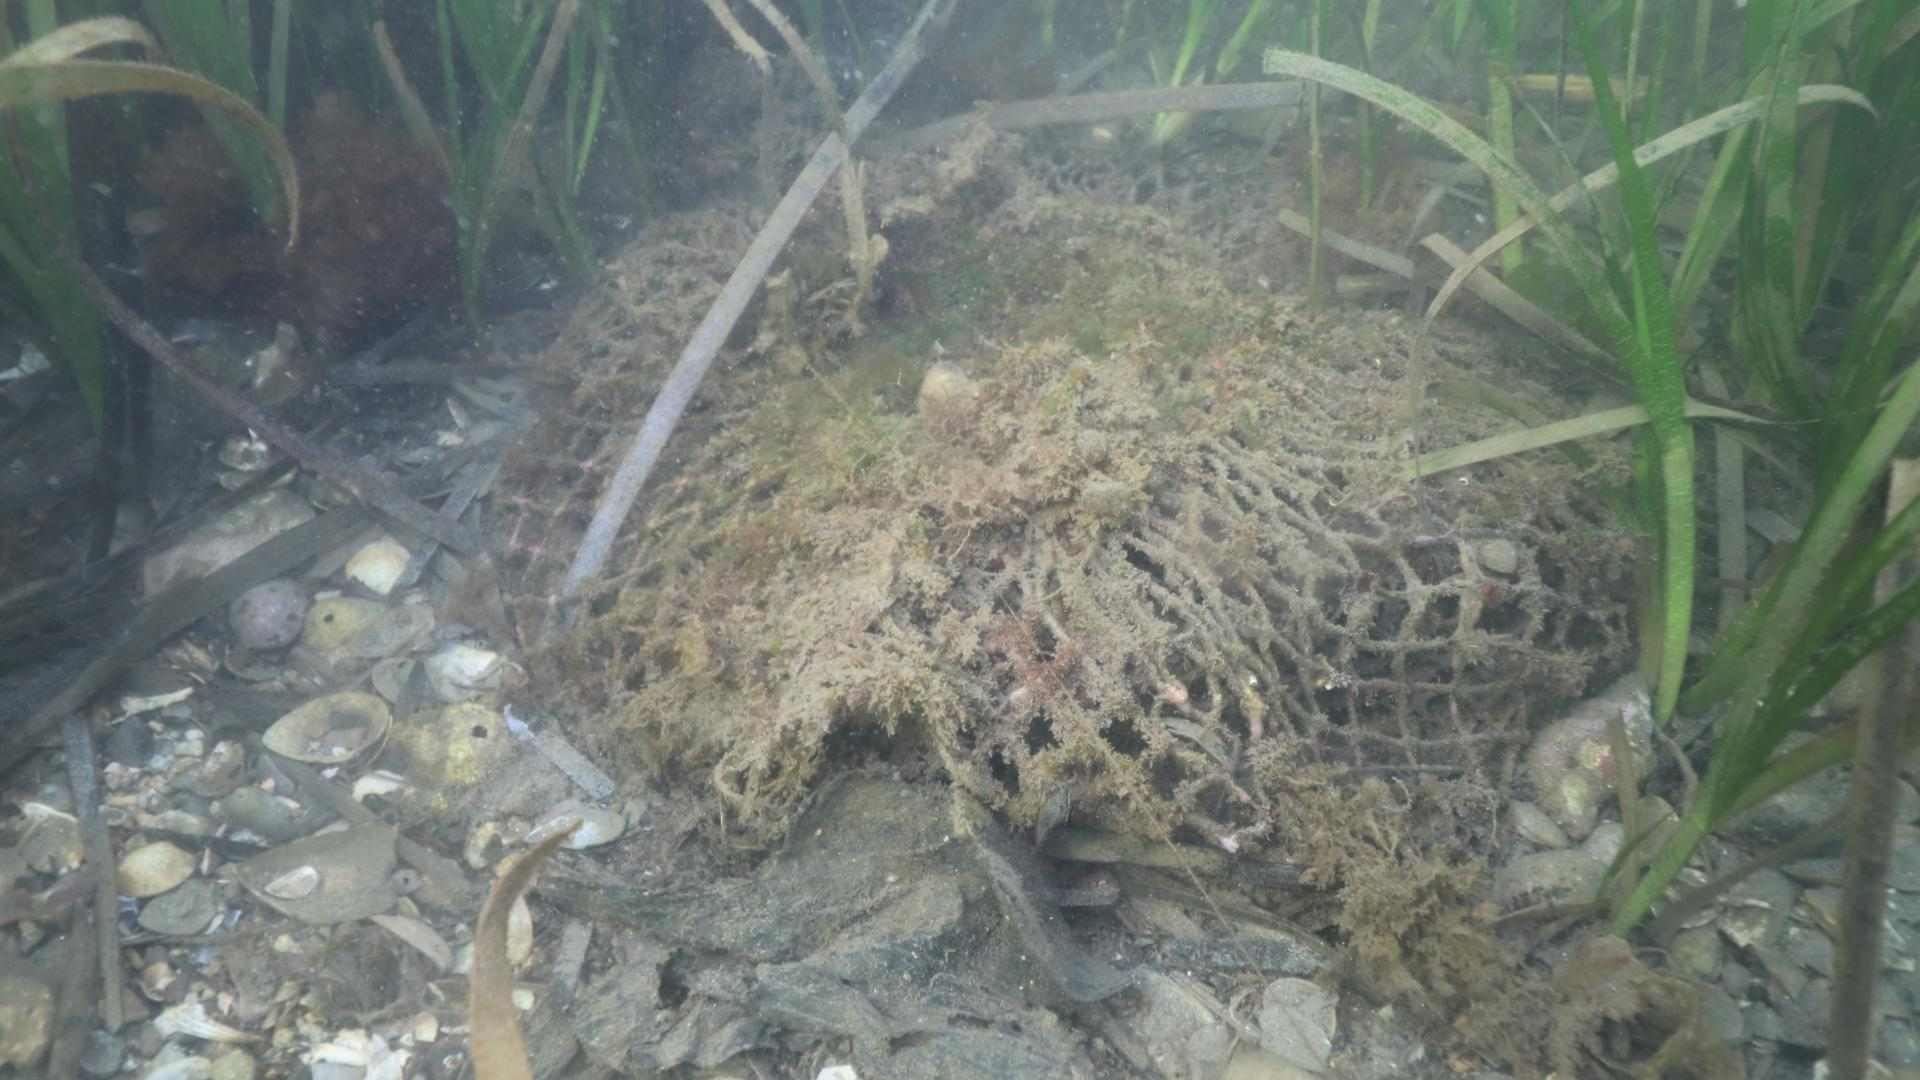fish net: (488, 140, 1629, 862)
